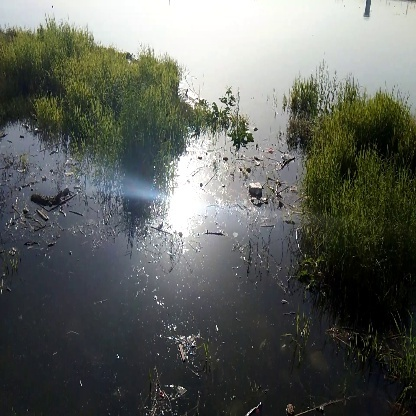plastic-garbage: (246, 175, 269, 206)
